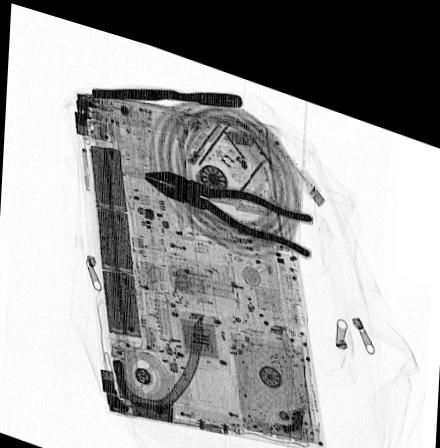Pliers: (140, 159, 315, 243)
